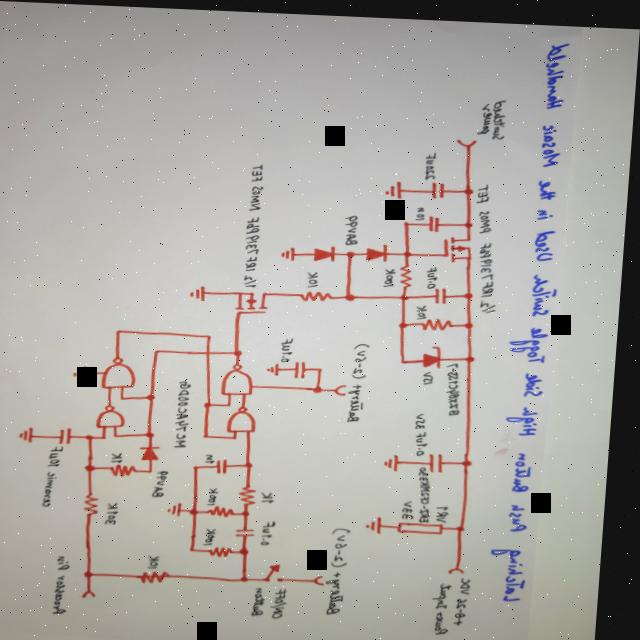capacitor: (434, 447, 454, 469), (432, 176, 450, 195), (298, 356, 314, 376), (437, 282, 454, 300), (64, 425, 80, 444), (242, 524, 265, 535), (430, 211, 445, 227), (223, 455, 236, 471)
crossover: (207, 346, 220, 354)
diode: (427, 341, 449, 364), (369, 239, 393, 258), (317, 242, 340, 258), (147, 443, 170, 459)
ground: (371, 511, 393, 531), (387, 175, 407, 196), (24, 425, 43, 443), (390, 449, 407, 468), (193, 282, 212, 299), (78, 362, 97, 379), (283, 242, 301, 259), (175, 499, 191, 514), (272, 359, 286, 373)
junction: (347, 289, 362, 298), (468, 453, 481, 463), (348, 246, 361, 255), (150, 428, 163, 437), (92, 568, 105, 577), (467, 286, 480, 295), (237, 345, 250, 354), (470, 349, 482, 358), (92, 462, 104, 471), (247, 544, 259, 553), (468, 316, 481, 324), (466, 182, 478, 190), (402, 317, 414, 325), (248, 572, 260, 580), (463, 520, 475, 528), (403, 289, 415, 297), (152, 391, 164, 399), (467, 216, 479, 224), (319, 381, 329, 390), (197, 505, 208, 513), (406, 246, 417, 254), (249, 507, 260, 515), (208, 330, 219, 338), (251, 458, 261, 466), (119, 326, 129, 334), (321, 362, 332, 369), (157, 346, 168, 353), (209, 399, 219, 406), (92, 432, 102, 439), (199, 461, 208, 468), (405, 216, 415, 222), (118, 431, 128, 437), (404, 354, 413, 360), (209, 430, 218, 436), (237, 432, 246, 438), (107, 433, 116, 439), (197, 544, 205, 550), (231, 399, 239, 405), (125, 394, 133, 399), (155, 467, 161, 471)
resistor: (404, 517, 455, 531), (426, 313, 459, 328), (147, 568, 182, 582), (90, 491, 109, 516), (303, 286, 339, 299), (402, 260, 420, 284), (247, 482, 266, 503), (117, 462, 144, 475), (216, 503, 243, 515), (217, 543, 241, 556)
source: (339, 380, 354, 392)
switch: (272, 560, 294, 579)
terminal: (457, 134, 480, 142), (90, 587, 107, 597), (456, 562, 474, 569), (322, 571, 334, 581)
text: (495, 34, 578, 598), (472, 178, 509, 309), (244, 156, 269, 286), (178, 377, 200, 447), (61, 553, 82, 613), (439, 578, 462, 630), (448, 357, 470, 411), (422, 461, 442, 518), (333, 566, 355, 611), (337, 523, 360, 564), (462, 572, 481, 620), (351, 379, 372, 419), (356, 339, 377, 375), (492, 94, 510, 135), (278, 584, 298, 615), (49, 469, 65, 506), (478, 97, 495, 130), (347, 211, 364, 242), (260, 583, 276, 614), (160, 468, 177, 496), (267, 516, 284, 543), (283, 334, 301, 359), (426, 147, 441, 176), (112, 499, 129, 524), (55, 443, 72, 466), (421, 426, 436, 452), (429, 262, 444, 284), (408, 495, 424, 515), (387, 263, 402, 284), (442, 500, 458, 518), (213, 483, 228, 502), (211, 524, 226, 542), (310, 268, 326, 284), (155, 552, 170, 567), (419, 300, 434, 315), (427, 367, 442, 381), (418, 201, 431, 216), (421, 409, 433, 425), (268, 488, 283, 500), (118, 450, 131, 462), (212, 451, 223, 461)
transistor: (237, 286, 274, 313), (445, 232, 477, 259)
